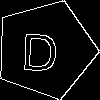D: (20, 24, 60, 71)
